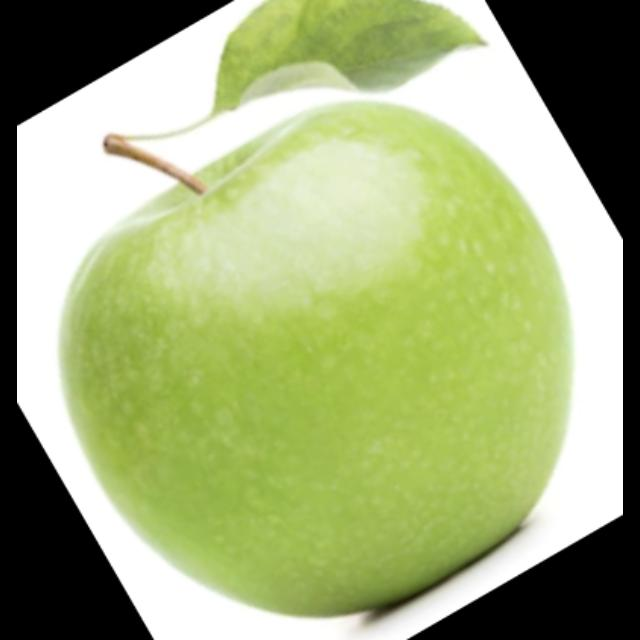Apel Segar: (70, 97, 578, 626)
